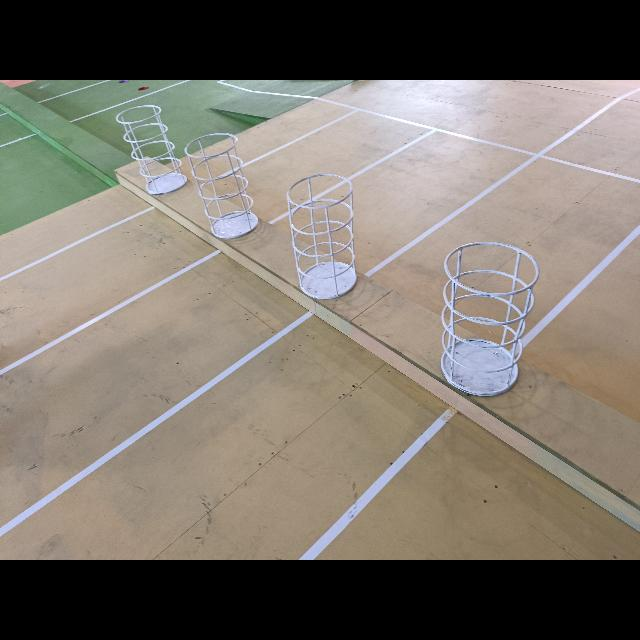S: (440, 238, 541, 396), (284, 170, 360, 302), (184, 132, 262, 240), (112, 101, 190, 197)
